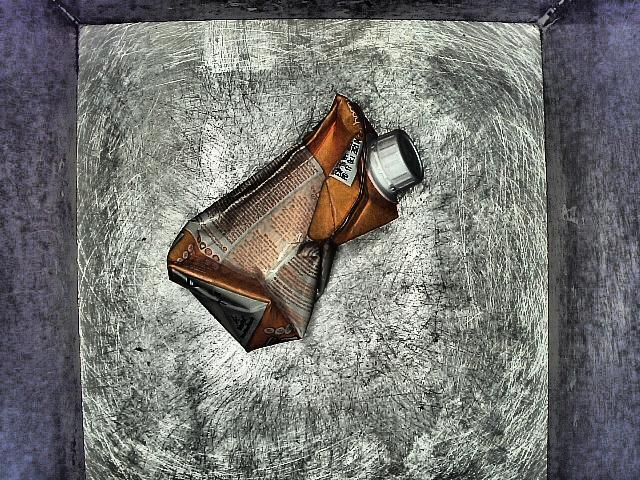Paper: (19, 22, 615, 480), (130, 85, 466, 359)
